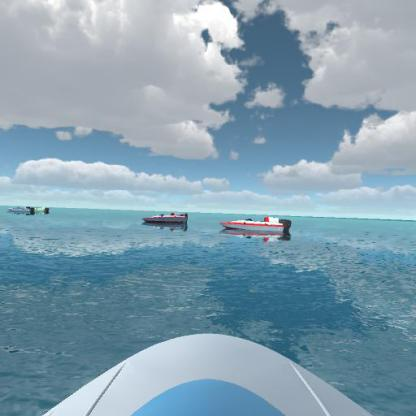usv0: (34, 203, 53, 214)
usv1: (7, 201, 38, 218)
usv3: (215, 212, 298, 242), (137, 207, 191, 232)
